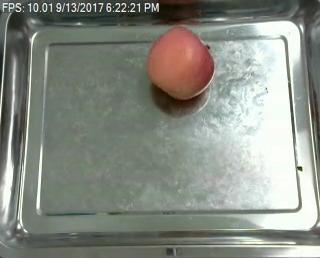apple: (147, 26, 215, 100)
